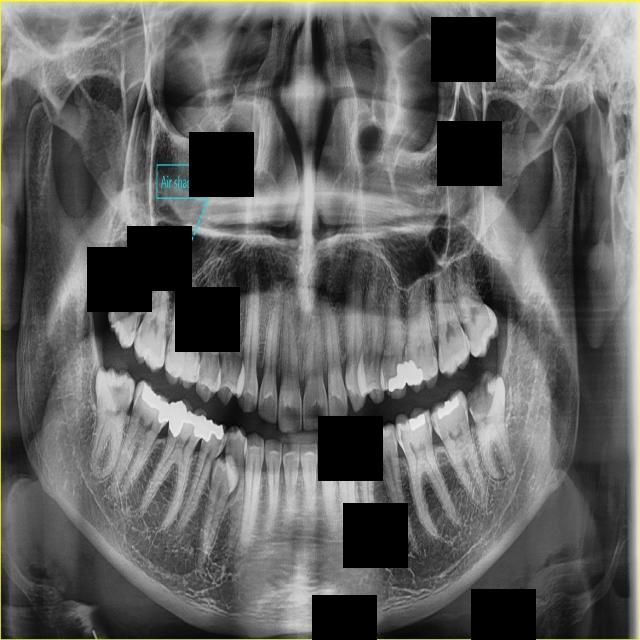NucleOSS Implant: (135, 377, 178, 425), (168, 400, 207, 438), (198, 417, 227, 447), (433, 394, 463, 419), (402, 357, 425, 387), (387, 363, 407, 392), (407, 413, 428, 431)
Sterngold Implant: (465, 371, 495, 418), (132, 325, 148, 342), (107, 383, 124, 399), (396, 424, 406, 445), (162, 344, 173, 361), (429, 410, 439, 428), (219, 433, 228, 449), (225, 432, 232, 450), (130, 321, 137, 338), (128, 388, 135, 403), (426, 418, 433, 432), (462, 399, 468, 414), (134, 390, 138, 405)
